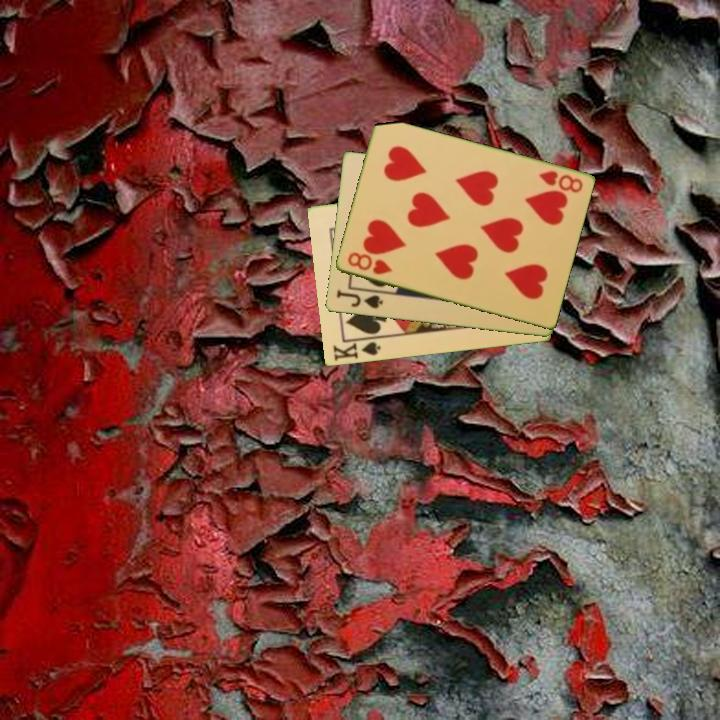8h: (343, 249, 395, 278), (535, 167, 585, 196)
Js: (333, 286, 386, 312)
Ks: (329, 339, 383, 364)
